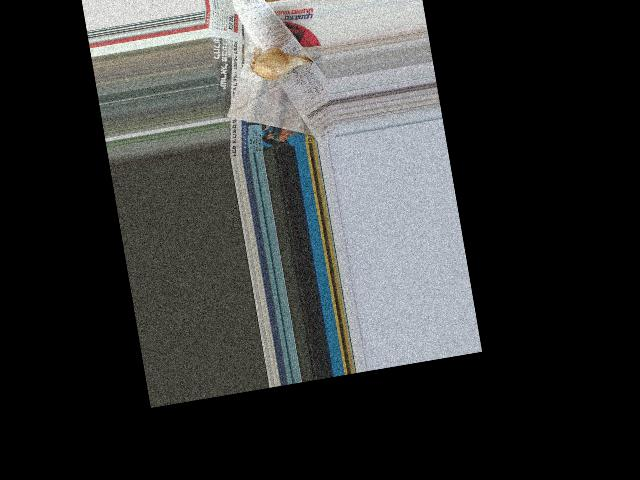onion: (254, 48, 299, 82)
